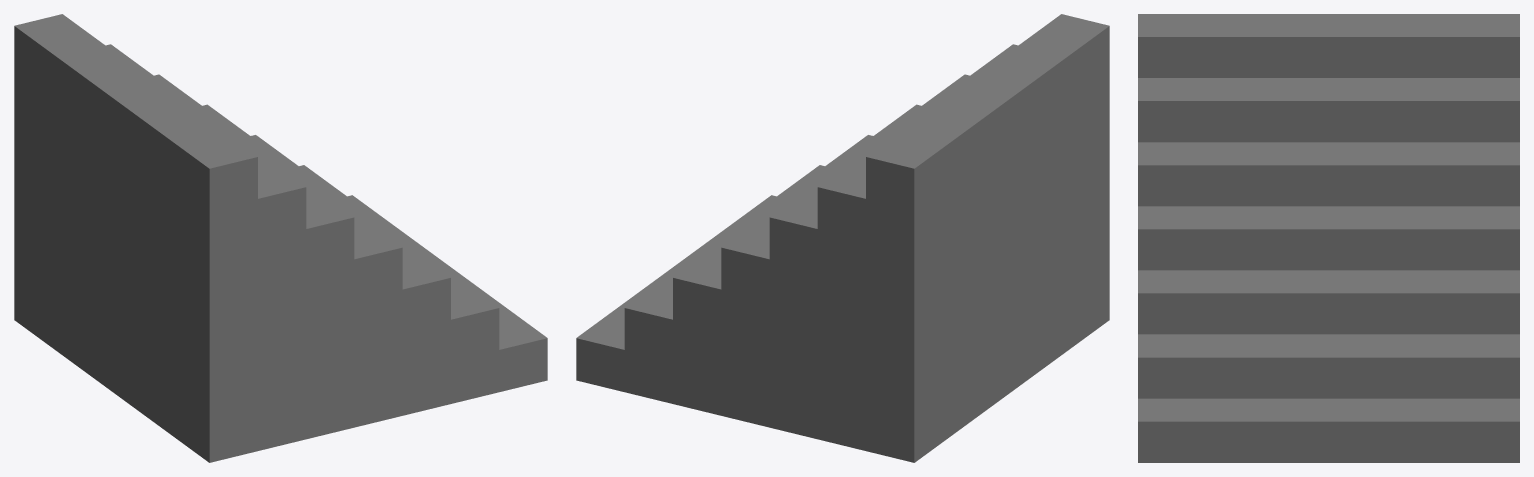
File: stairs_02.fbx
3 views of the same model, side by side, from view 1: azimuth 30°, elevation 25°; view 2: azimuth 150°, elevation 25°; view 3: azimuth 270°, elevation 25° (orthographic). The views are drawn at different scales.
Parts seen in each view (by area): view 1: stairs_02; view 2: stairs_02; view 3: stairs_02.
Boxes of the visible parts, box(x1,y1,x2,y2) form: stairs_02: box(14, 14, 547, 462); stairs_02: box(576, 14, 1109, 462); stairs_02: box(1138, 14, 1519, 462).
Size of the model in its own units: 200 by 166 by 200.
